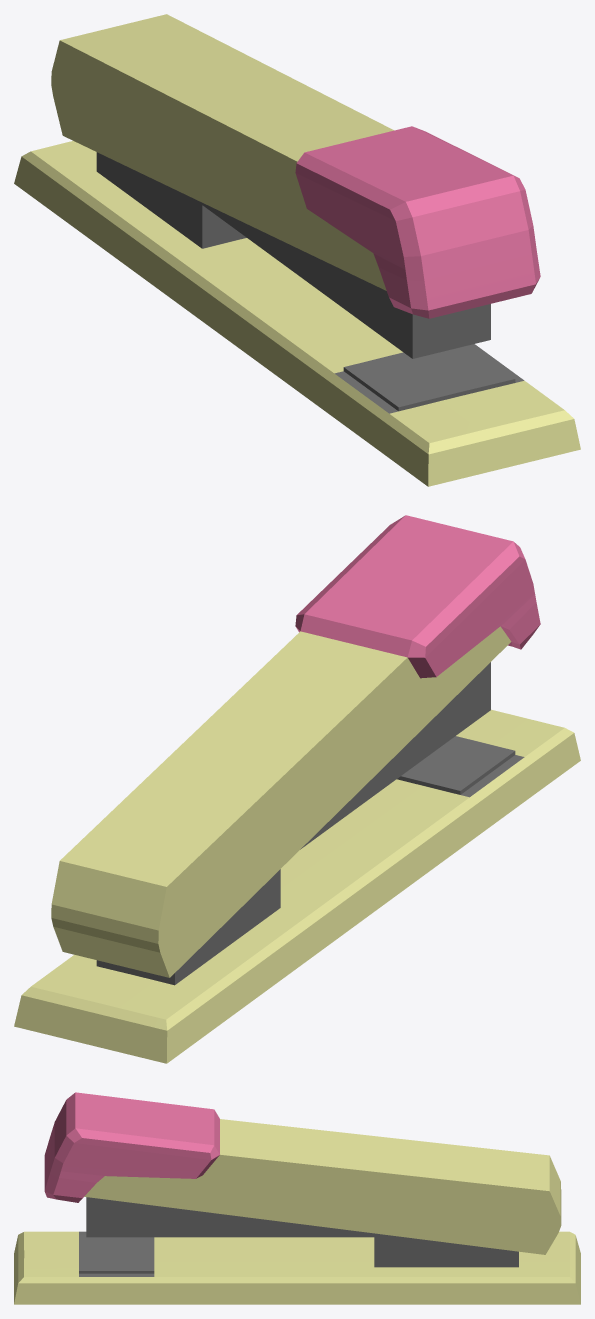
Rendered from Stapler.fbx.
3 renders of one model, top to bottom at view 1: azimuth 30°, elevation 25°; view 2: azimuth 150°, elevation 25°; view 3: azimuth 270°, elevation 25°, orthographic. The views are drawn at different scales.
Parts seen in each view (by area): view 1: Stapler blue; view 2: Stapler blue; view 3: Stapler blue.
Part boxes in pixels (left/top/right/bottom): Stapler blue: left=14, top=14, right=580, bottom=486; Stapler blue: left=14, top=515, right=580, bottom=1063; Stapler blue: left=14, top=1092, right=580, bottom=1304.
Size of the model in its own units: 0.1755 by 0.2706 by 0.8239.
